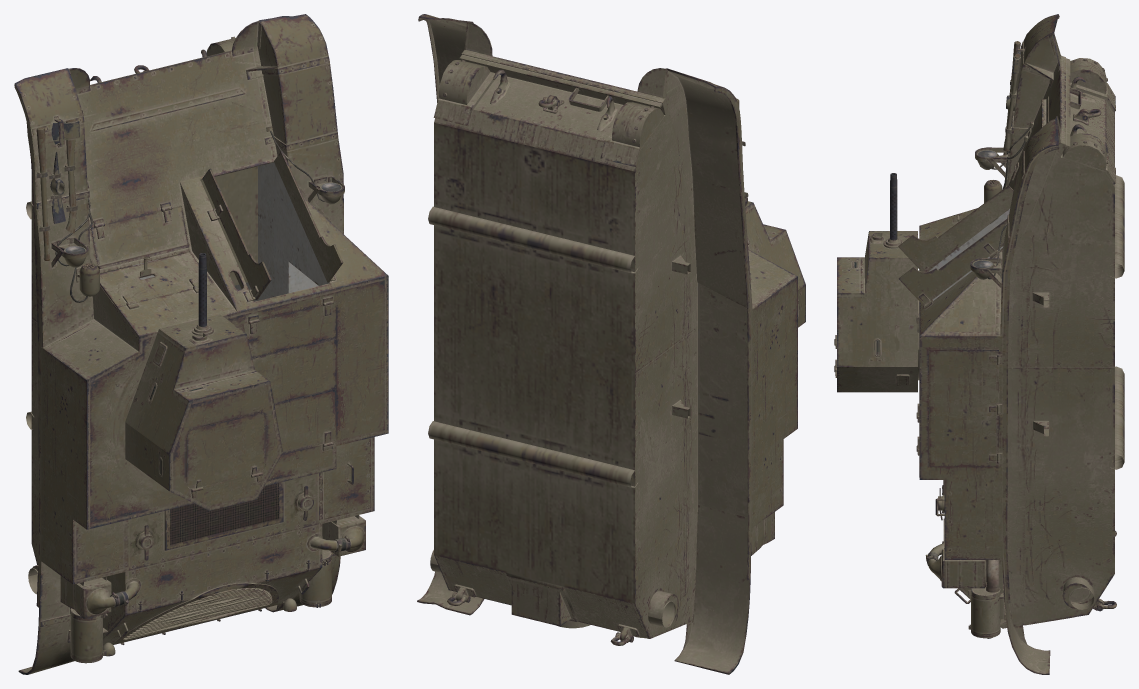
The model's file is Hull.glb.
3 views of the same model, side by side, from view 1: azimuth 30°, elevation 25°; view 2: azimuth 150°, elevation 25°; view 3: azimuth 270°, elevation 25° (orthographic). The views are drawn at different scales.
Parts seen in each view (by area): view 1: set_0_group_0; view 2: set_0_group_0; view 3: set_0_group_0.
Boxes of the visible parts, x1=… form: set_0_group_0: x1=14, y1=14, x2=388, y2=674; set_0_group_0: x1=417, y1=14, x2=805, y2=674; set_0_group_0: x1=834, y1=14, x2=1124, y2=674.
Size of the model in its own units: 2.26 by 4.15 by 2.05.
1 material, 1 textured.
